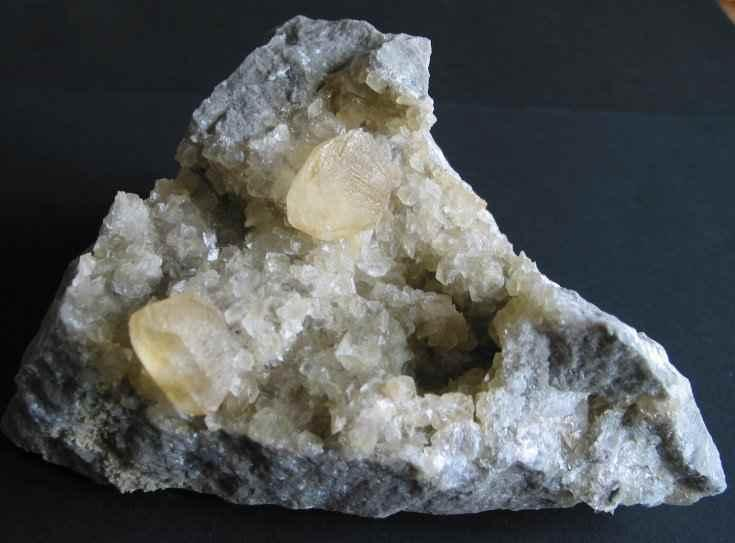calcite: (57, 36, 619, 482), (128, 35, 619, 484)
